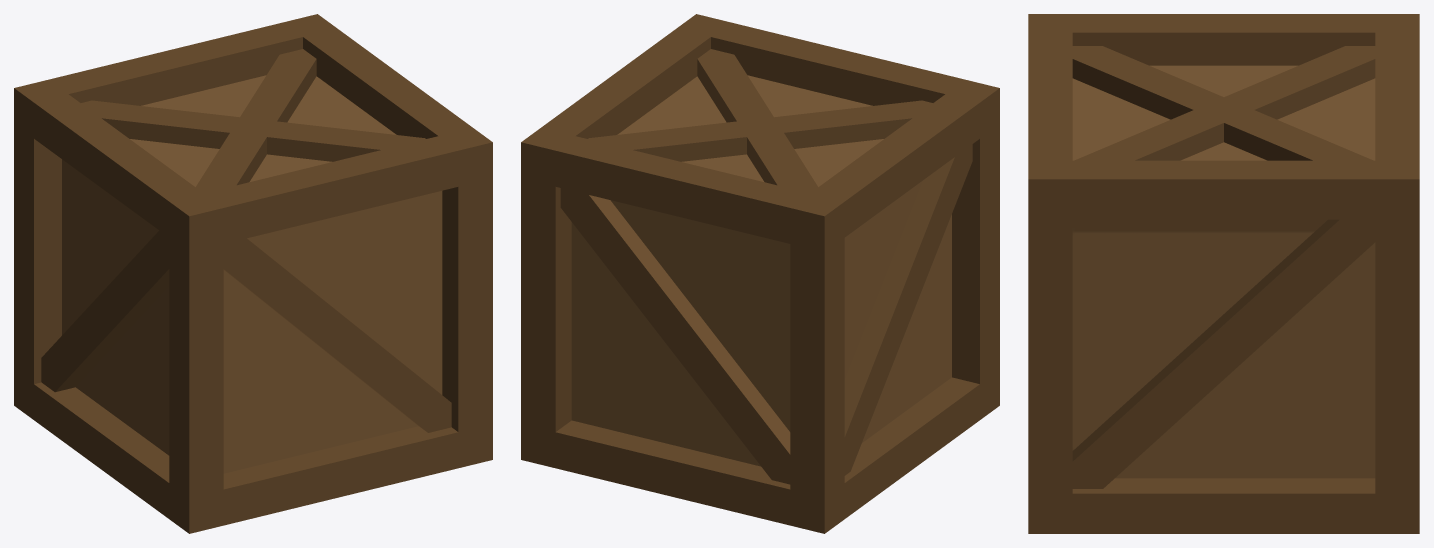
The model's file is prop-box.fbx.
3 renders of one model, left to right at view 1: azimuth 30°, elevation 25°; view 2: azimuth 150°, elevation 25°; view 3: azimuth 270°, elevation 25°, orthographic. The views are drawn at different scales.
Visible parts, largest first — view 1: Cube.001; view 2: Cube.001; view 3: Cube.001.
Part boxes in pixels (left/top/right/bottom): Cube.001: left=14, top=14, right=492, bottom=533; Cube.001: left=521, top=14, right=999, bottom=533; Cube.001: left=1028, top=14, right=1419, bottom=533.
Bounding box in the file's own units: 413 × 413 × 413.
